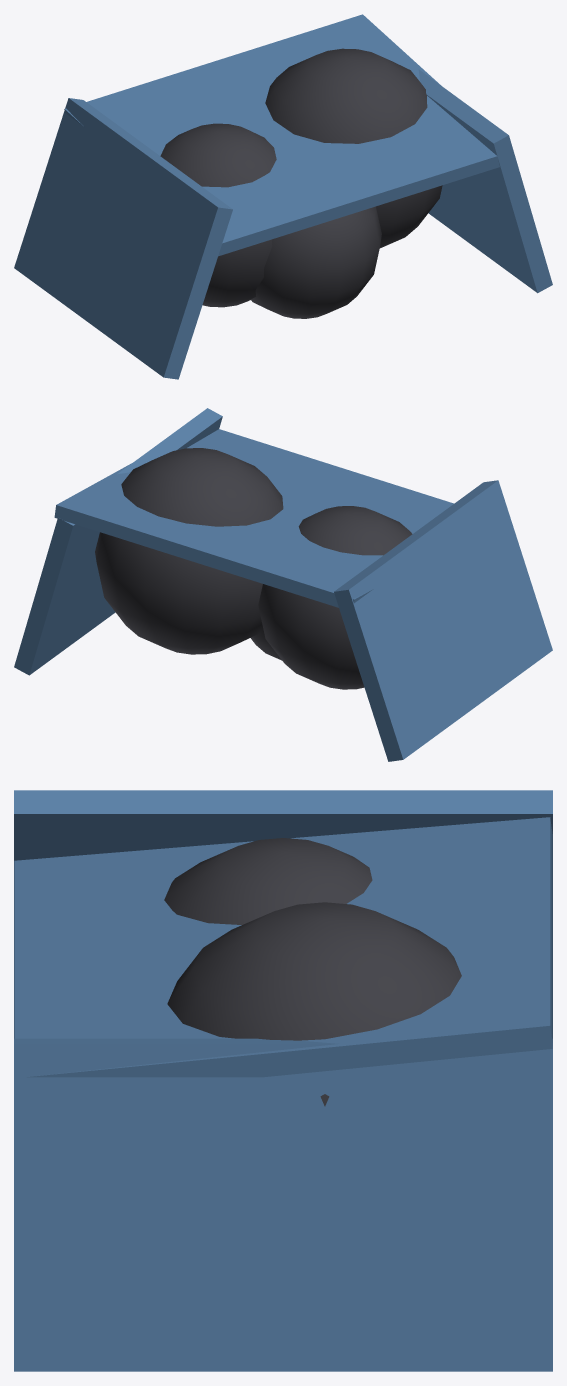
File: prop_blue_sheet.glb
The picture shows the model from 3 angles, top to bottom: view 1: azimuth 30°, elevation 25°; view 2: azimuth 150°, elevation 25°; view 3: azimuth 270°, elevation 25°; orthographic projection. The views are drawn at different scales.
Visible parts, largest first — view 1: blue_sheet; view 2: blue_sheet; view 3: blue_sheet.
Boxes of the visible parts, <box> form: blue_sheet: <box>14,14,552,379</box>; blue_sheet: <box>14,408,552,761</box>; blue_sheet: <box>14,790,552,1371</box>.
Bounding box in the file's own units: 1.95 × 1 × 1.3.
